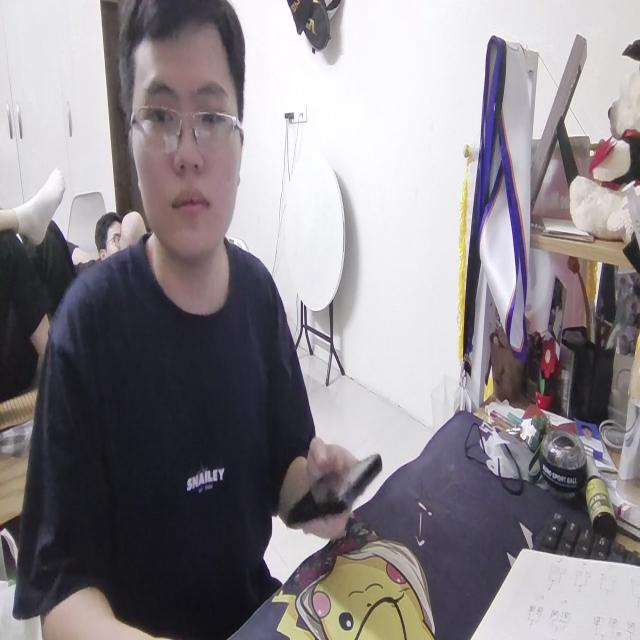book: (466, 544, 640, 640)
phone: (278, 448, 381, 525)
student: (20, 2, 364, 640)
